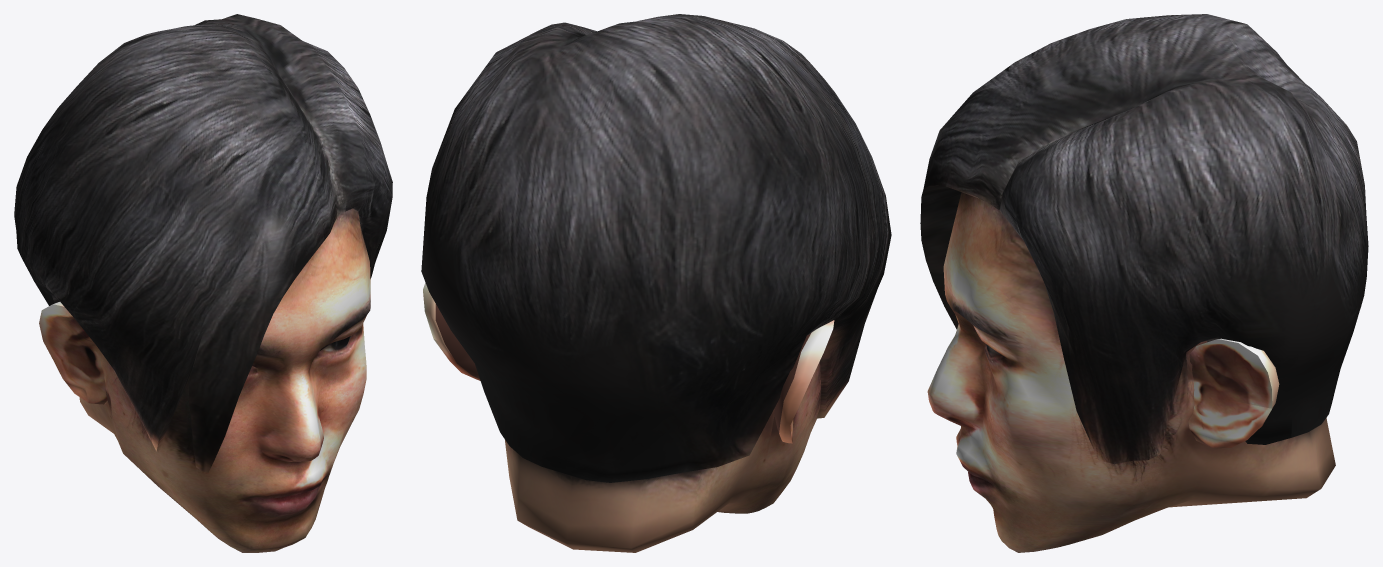
The model's file is dede_160807_3.dae.
3 renders of one model, left to right at view 1: azimuth 30°, elevation 25°; view 2: azimuth 150°, elevation 25°; view 3: azimuth 270°, elevation 25°, orthographic. The views are drawn at different scales.
Parts seen in each view (by area): view 1: face; view 2: face; view 3: face.
Part boxes in pixels (box(x1,y1,x2,y2)): face: box(14, 14, 392, 552); face: box(421, 14, 891, 552); face: box(920, 14, 1368, 552).
Size of the model in its own units: 2.04 by 2.72 by 2.17.
1 material, 1 textured.
